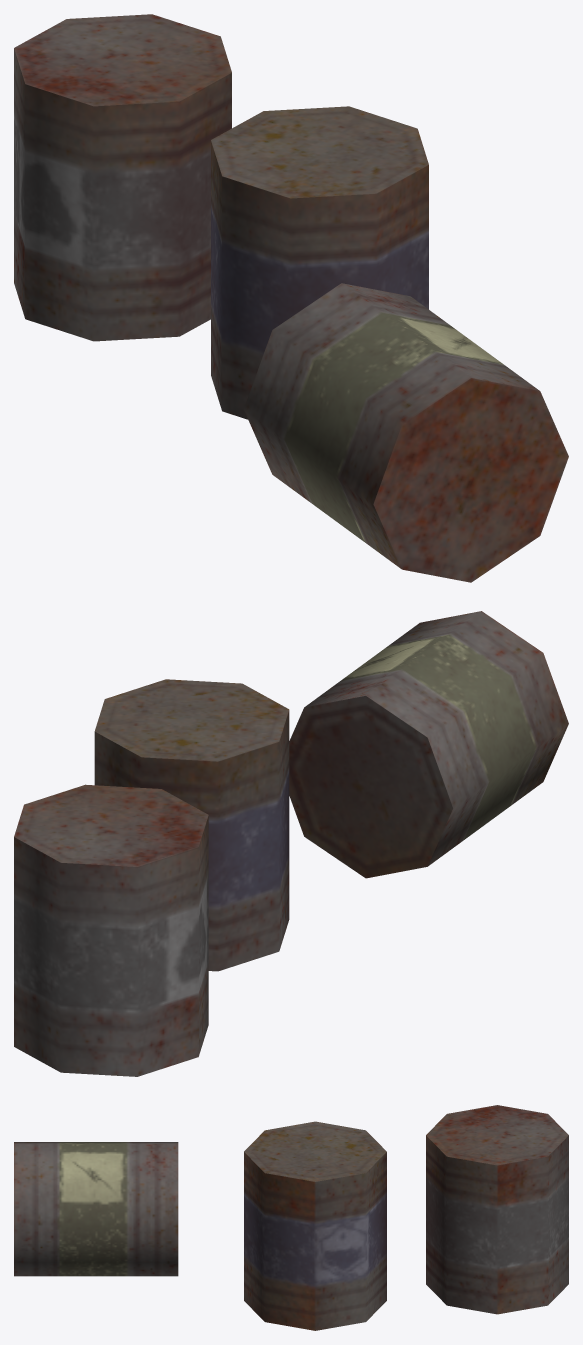
Rendered from Jars.fbx.
3 views of the same model, one above another, from view 1: azimuth 30°, elevation 25°; view 2: azimuth 150°, elevation 25°; view 3: azimuth 270°, elevation 25° (orthographic). The views are drawn at different scales.
Parts seen in each view (by area): view 1: Jars; view 2: Jars; view 3: Jars.
Boxes of the visible parts, left/top/right/bottom form: Jars: left=14, top=14, right=568, bottom=582; Jars: left=14, top=611, right=568, bottom=1076; Jars: left=14, top=1105, right=568, bottom=1330.
Size of the model in its own units: 27.9 by 22.22 by 75.02.
Materials: 1 (1 with a texture image).
